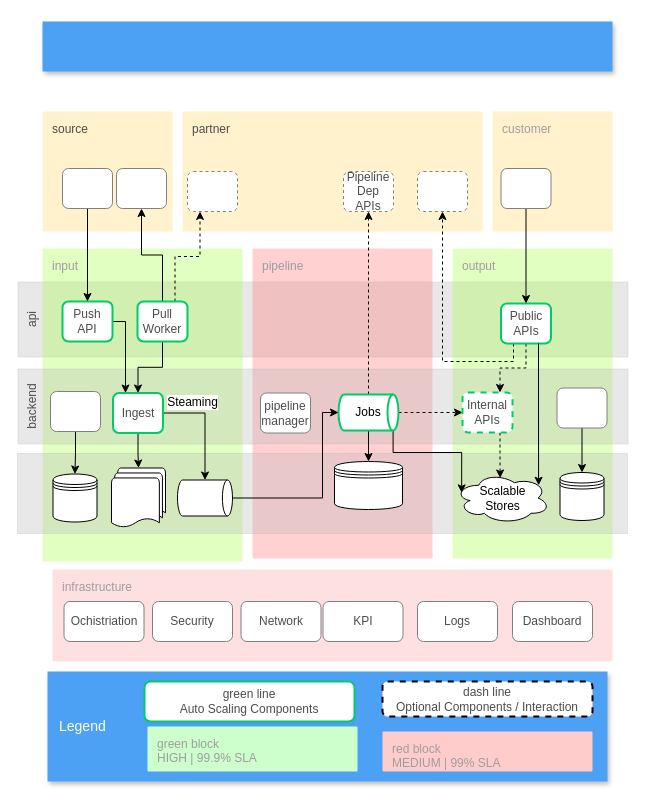
This 646x805 diagram has some shape labels left out. Here are the shapes that lost their labels. From the top down, the centre of each, then its label:
At point 328,47: "Reference Architecture: Event Processing".
At point 87,188: "Pushable Sources".
At point 141,188: "Pullable Sources".
At point 212,191: "Input Dep APIs".
At point 442,191: "Output Dep APIs".
At point 525,188: "Clients".
At point 75,411: "input manager".
At point 581,407: "output manager".
At point 74,497: "input config".
At point 138,497: "Imutable Store".
At point 204,497: "Job Queue".
At point 322,493: "storage".
At point 368,485: "Temp Stores".
At point 581,496: "output config".
